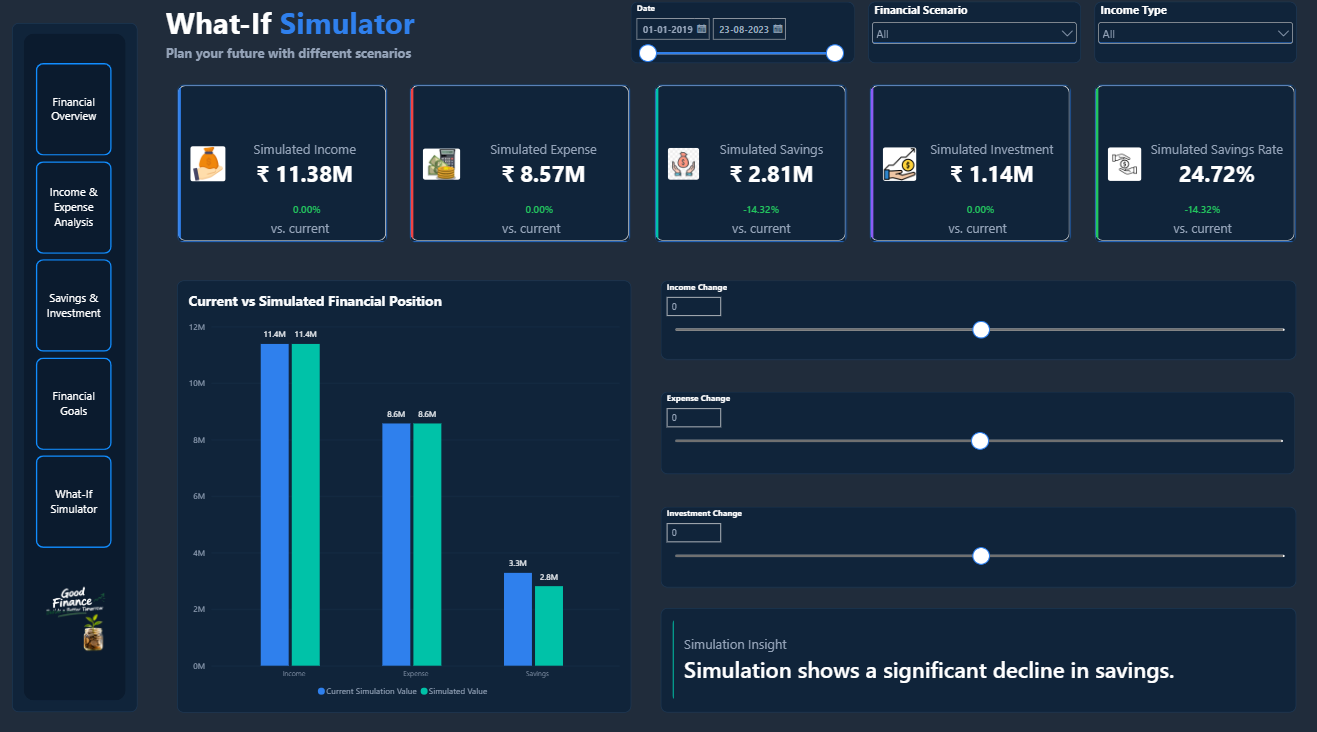

Layout of this report page (visuals, bound fields, positions):
{"tool":"powerbi","page":{"name":"What-If Simulator","canvas":[1920,1080],"ordinal":4},"visuals":[{"type":"shape","title":"Financial S","box":[21.6,43.3,181.8,997.7],"z":0},{"type":"textbox","box":[244.5,13,558.3,60.6],"z":1000},{"type":"textbox","box":[244.5,73.6,625.4,58.4],"z":2000},{"type":"slicer","fields":{"Values":["DateTable.Date"]},"box":[917.5,12.7,323.9,88.7],"z":3000},{"type":"slicer","fields":{"Values":["financial_data.financial_scenario"]},"box":[1261.3,12.7,307.6,88.7],"z":4000},{"type":"slicer","fields":{"Values":["financial_data.income_type"]},"box":[1588.9,12.7,293.2,88.7],"z":5000},{"type":"pageNavigator","box":[56.3,101.7,110.4,703.3],"z":6000},{"type":"slicer","fields":{"Values":["Income Change.Income Change"]},"box":[960.9,415.5,919.8,114.7],"z":7000},{"type":"slicer","fields":{"Values":["Expense Change.Expense Change"]},"box":[960.9,577.8,917.6,119],"z":8000},{"type":"slicer","fields":{"Values":["Investment Change.Investment Change"]},"box":[960.9,744.5,919.8,116.9],"z":9000},{"type":"clusteredColumnChart","title":"Current vs Simulated Financial Position","fields":{"Y":["_Measure.Current Simulation Value","_Measure.Simulated Value"],"Category":["Simulation Metric.Metric"]},"box":[259.7,415.5,657.9,625.4],"z":10000},{"type":"cardVisual","title":"Simulation Insight","fields":{"Data":["_Measure.Simulation Insight"]},"box":[960.9,889.5,919.8,151.5],"z":11000},{"type":"cardVisual","fields":{"Data":["_Measure.Simulated Income"]},"box":[259.7,132,305.1,229.4],"z":12000},{"type":"cardVisual","fields":{"Data":["_Measure.Simulated Expense"]},"box":[597.8,132,320.3,229.4],"z":13000},{"type":"cardVisual","fields":{"Data":["_Measure.Simulated Savings"]},"box":[952.2,132,279.2,229.4],"z":14000},{"type":"cardVisual","fields":{"Data":["_Measure.Simulated Investment"]},"box":[1263.3,132,292.2,229.4],"z":15000},{"type":"cardVisual","fields":{"Data":["_Measure.Simulated Savings Rate"]},"box":[1588.5,132,292.2,229.4],"z":16000},{"type":"cardVisual","fields":{"Data":["_Measure.Income vs Current %"]},"box":[413.4,300.8,73.6,26],"z":17000},{"type":"textbox","box":[1064.8,326.8,110.4,26],"z":18000},{"type":"cardVisual","fields":{"Data":["_Measure.Expense vs Current %"]},"box":[748.8,300.8,73.6,26],"z":19000},{"type":"textbox","box":[1703.2,326.8,110.4,26],"z":20000},{"type":"textbox","box":[731.5,326.8,110.4,26],"z":21000},{"type":"textbox","box":[1376.4,326.8,110.4,26],"z":22000},{"type":"textbox","box":[396,326.8,110.4,26],"z":23000},{"type":"cardVisual","fields":{"Data":["_Measure.Savings vs Current %"]},"box":[1064.8,300.8,88.7,26],"z":24000},{"type":"cardVisual","fields":{"Data":["_Measure.Investment vs Current %"]},"box":[1387.2,300.8,88.7,26],"z":25000},{"type":"cardVisual","fields":{"Data":["_Measure.Savings Rate Impact %"]},"box":[1703.2,300.8,88.7,26],"z":26000},{"type":"image","box":[56.3,831,110.4,153.7],"z":26001}]}

Visuals, with their boxes in screenshot pixels (x1, y1, x2, y2), scaled from the page's 1920x1080 canvas onto the 1317x732 screenshot:
"Financial S" shape: x1=15 y1=29 x2=140 y2=706
textbox: x1=168 y1=9 x2=551 y2=50
textbox: x1=168 y1=50 x2=597 y2=89
slicer - DateTable.Date: x1=629 y1=9 x2=852 y2=69
slicer - financial_data.financial_scenario: x1=865 y1=9 x2=1076 y2=69
slicer - financial_data.income_type: x1=1090 y1=9 x2=1291 y2=69
pageNavigator: x1=39 y1=69 x2=114 y2=546
slicer - Income Change.Income Change: x1=659 y1=282 x2=1290 y2=359
slicer - Expense Change.Expense Change: x1=659 y1=392 x2=1289 y2=472
slicer - Investment Change.Investment Change: x1=659 y1=505 x2=1290 y2=584
"Current vs Simulated Financial Position" clusteredColumnChart: x1=178 y1=282 x2=629 y2=705
"Simulation Insight" cardVisual: x1=659 y1=603 x2=1290 y2=706
cardVisual - _Measure.Simulated Income: x1=178 y1=89 x2=387 y2=245
cardVisual - _Measure.Simulated Expense: x1=410 y1=89 x2=630 y2=245
cardVisual - _Measure.Simulated Savings: x1=653 y1=89 x2=845 y2=245
cardVisual - _Measure.Simulated Investment: x1=867 y1=89 x2=1067 y2=245
cardVisual - _Measure.Simulated Savings Rate: x1=1090 y1=89 x2=1290 y2=245
cardVisual - _Measure.Income vs Current %: x1=284 y1=204 x2=334 y2=221
textbox: x1=730 y1=221 x2=806 y2=239
cardVisual - _Measure.Expense vs Current %: x1=514 y1=204 x2=564 y2=221
textbox: x1=1168 y1=221 x2=1244 y2=239
textbox: x1=502 y1=221 x2=577 y2=239
textbox: x1=944 y1=221 x2=1020 y2=239
textbox: x1=272 y1=221 x2=347 y2=239
cardVisual - _Measure.Savings vs Current %: x1=730 y1=204 x2=791 y2=221
cardVisual - _Measure.Investment vs Current %: x1=952 y1=204 x2=1012 y2=221
cardVisual - _Measure.Savings Rate Impact %: x1=1168 y1=204 x2=1229 y2=221
image: x1=39 y1=563 x2=114 y2=667
